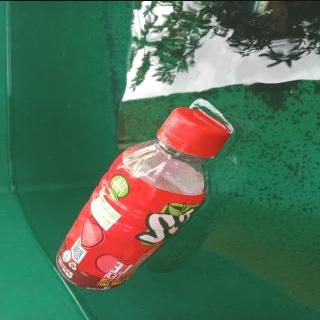bottle: (54, 104, 231, 290)
